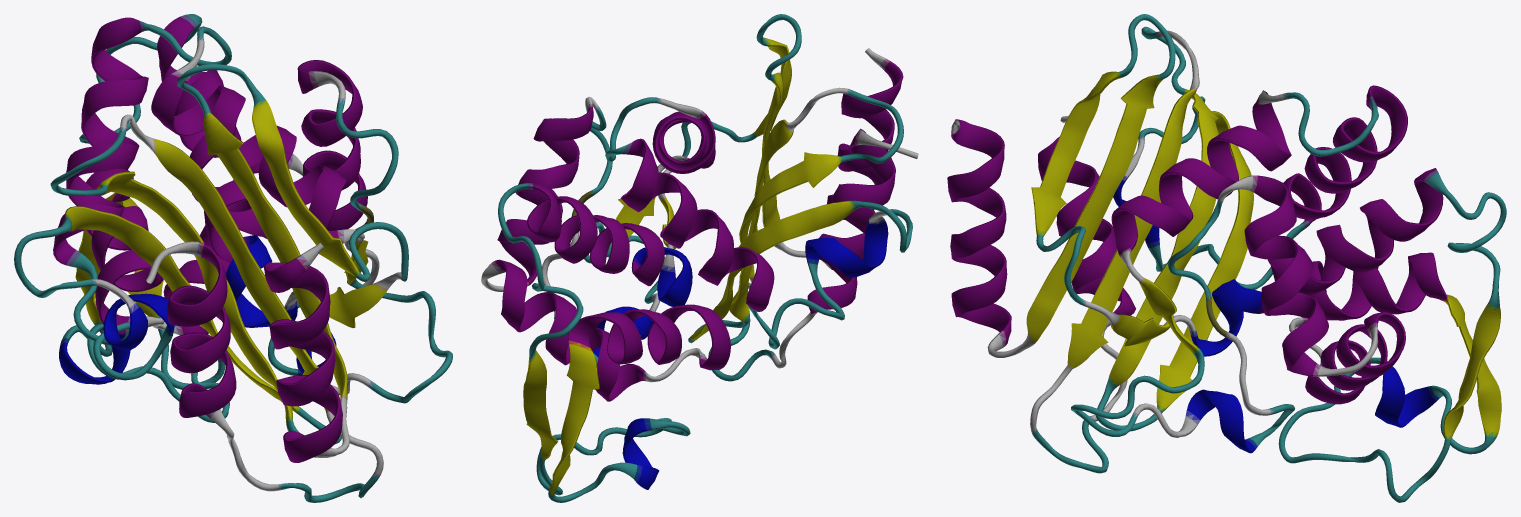
The model's file is animate.0007.obj.
3 views of the same model, side by side, from view 1: azimuth 30°, elevation 25°; view 2: azimuth 150°, elevation 25°; view 3: azimuth 270°, elevation 25° (orthographic). The views are drawn at different scales.
Visible parts, largest first — view 1: vmd_mol0_rep0; view 2: vmd_mol0_rep0; view 3: vmd_mol0_rep0.
Part boxes in pixels (bbox=[...]): vmd_mol0_rep0: bbox=[14, 14, 452, 502]; vmd_mol0_rep0: bbox=[481, 14, 918, 502]; vmd_mol0_rep0: bbox=[947, 14, 1506, 502].
Bounding box in the file's own units: 1.02 × 1.11 × 1.32.
